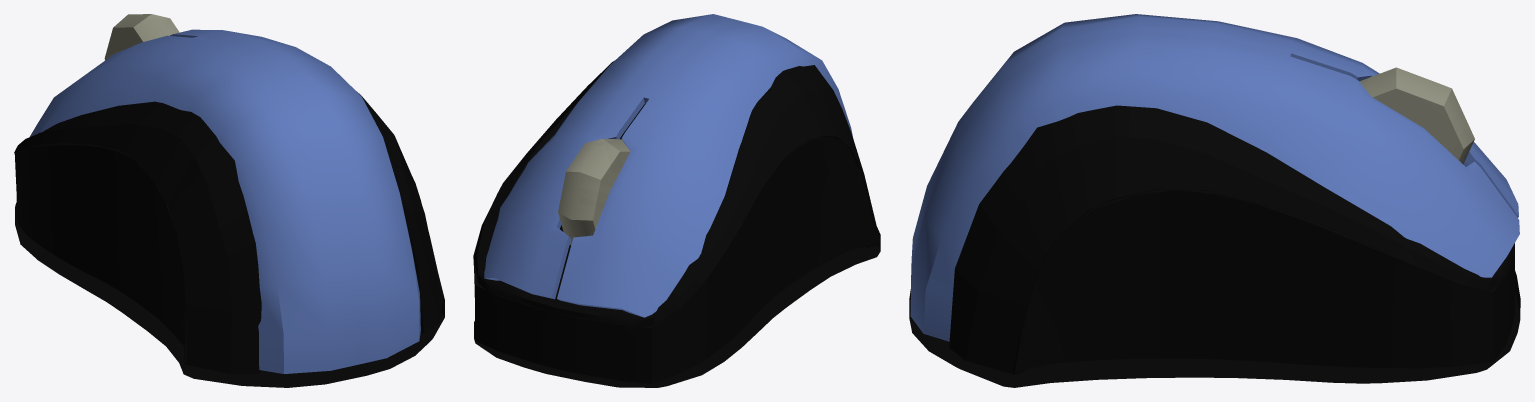
Rendered from mouse.dae.
3 renders of one model, left to right at view 1: azimuth 30°, elevation 25°; view 2: azimuth 150°, elevation 25°; view 3: azimuth 270°, elevation 25°, orthographic. The views are drawn at different scales.
Visible parts, largest first — view 1: polySurface2, polySurface3, polySurface4, nurbsToPoly8, pPipe1; view 2: polySurface2, polySurface4, polySurface3, nurbsToPoly8, pPipe1; view 3: polySurface2, polySurface4, polySurface3, nurbsToPoly8, pPipe1.
Part boxes in pixels (x1,y1,x2,y2): polySurface2: (30,29,420,373); polySurface3: (14,92,442,373); polySurface4: (14,144,444,361); nurbsToPoly8: (15,203,444,387); pPipe1: (104,14,179,60); polySurface2: (484,14,852,317); polySurface4: (473,104,879,383); polySurface3: (473,60,879,329); nurbsToPoly8: (474,225,880,387); pPipe1: (558,139,630,245); polySurface2: (910,14,1519,341); polySurface4: (1013,189,1514,371); polySurface3: (949,105,1513,374); nurbsToPoly8: (909,271,1520,387); pPipe1: (1359,67,1474,164).
Size of the model in its own units: 10.19 by 9.08 by 17.71.
